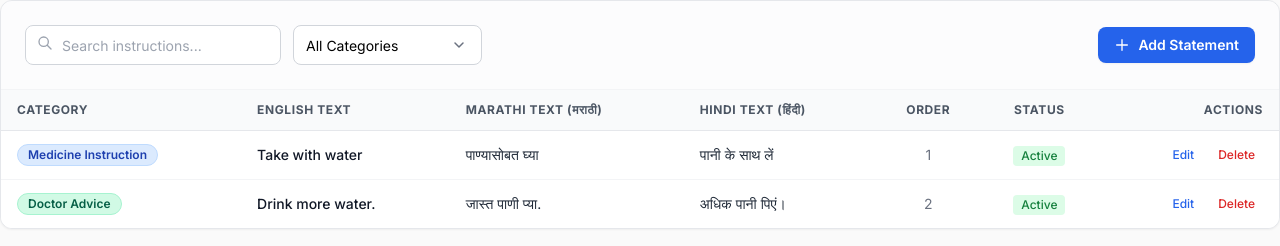
Test: PlatformStatementsTab › filters statements by category and search text
The image size is (1280, 246).
Expected: the text "Take with water" is shown, [241, 130, 450, 180]
// Filter by Doctor Advice
Select "Doctor Advice" in the dropdown at [388, 45], box [293, 25, 482, 65]
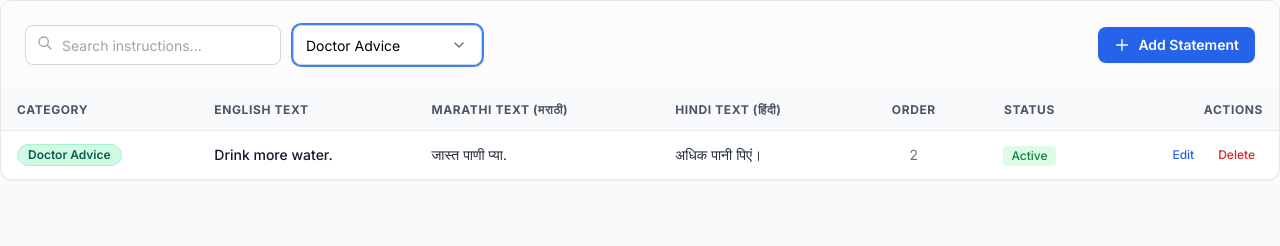
Expected: the text "Drink more water." is shown, [198, 130, 416, 179]
Expected: the text "Take with water" is gone
// Reset filter and search
Select "All Categories" in the dropdown at [388, 45], box [293, 25, 482, 65]
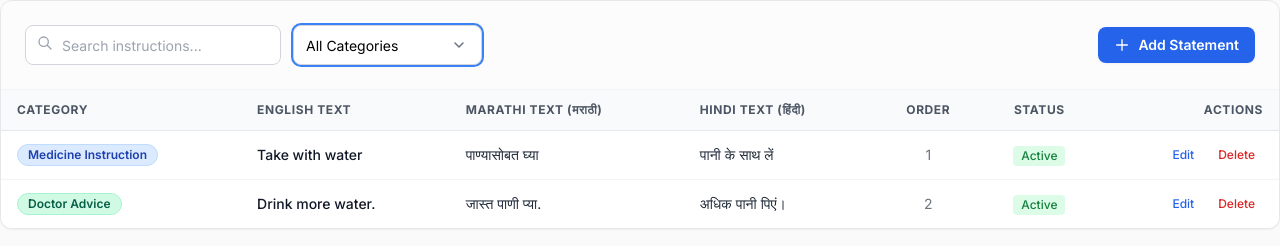
Type "पाण्या" into the field with placeholder "Search instructions..." at [153, 45], box [25, 25, 281, 65]
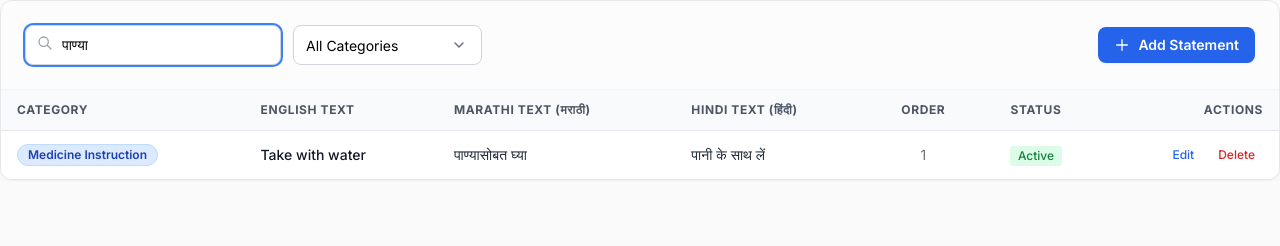
Expected: the text "Take with water" is shown, [244, 130, 438, 179]
Expected: the text "Drink more water." is gone
